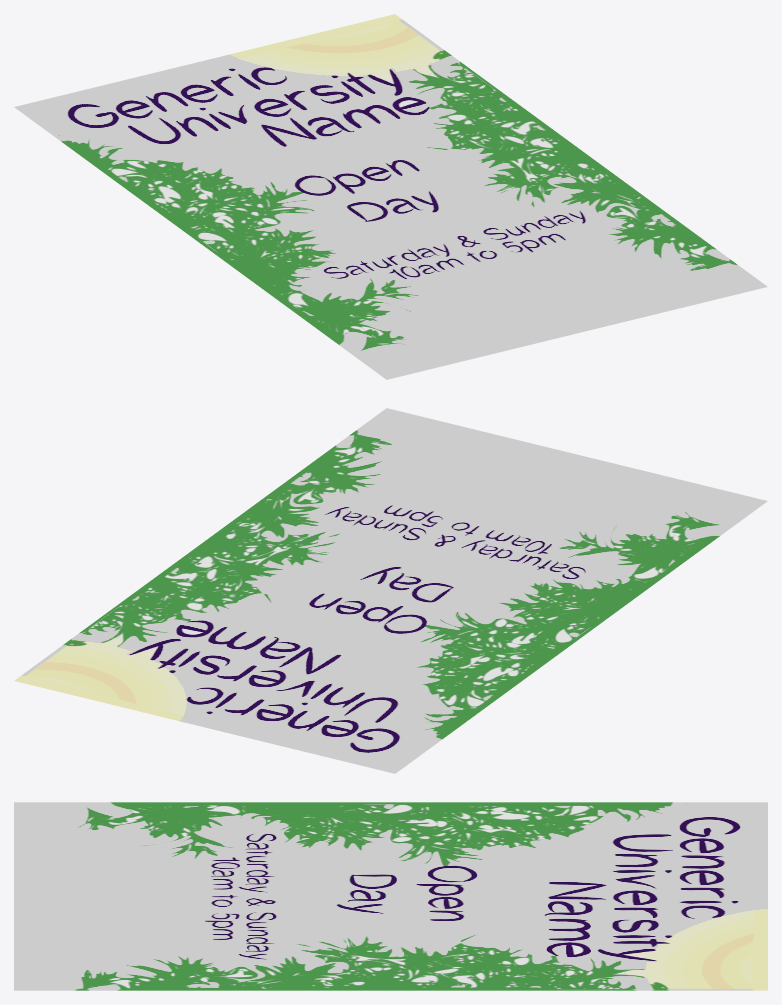
Rendered from leaflet 2.fbx.
3 renders of one model, top to bottom at view 1: azimuth 30°, elevation 25°; view 2: azimuth 150°, elevation 25°; view 3: azimuth 270°, elevation 25°, orthographic.
Parts seen in each view (by area): view 1: Plane001; view 2: Plane001; view 3: Plane001.
Part boxes in pixels (x1,y1,x2,y2): Plane001: [14, 14, 767, 379]; Plane001: [14, 408, 767, 773]; Plane001: [14, 802, 767, 990].
Size of the model in its own units: 25.6 by 2.66e-15 by 43.35.
1 material, 1 textured.
